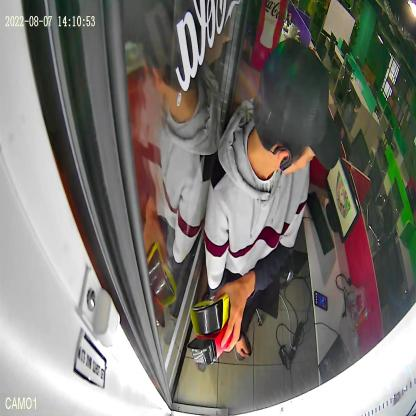red: (187, 316, 235, 364)
yellow: (190, 294, 230, 336)
